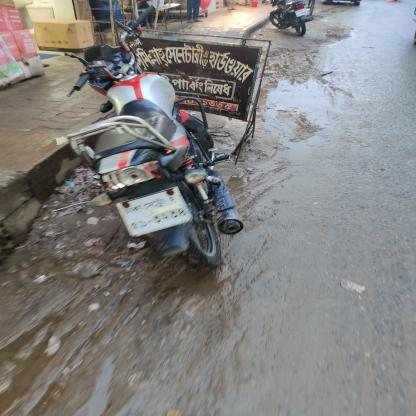license_plate: (110, 180, 193, 240)
